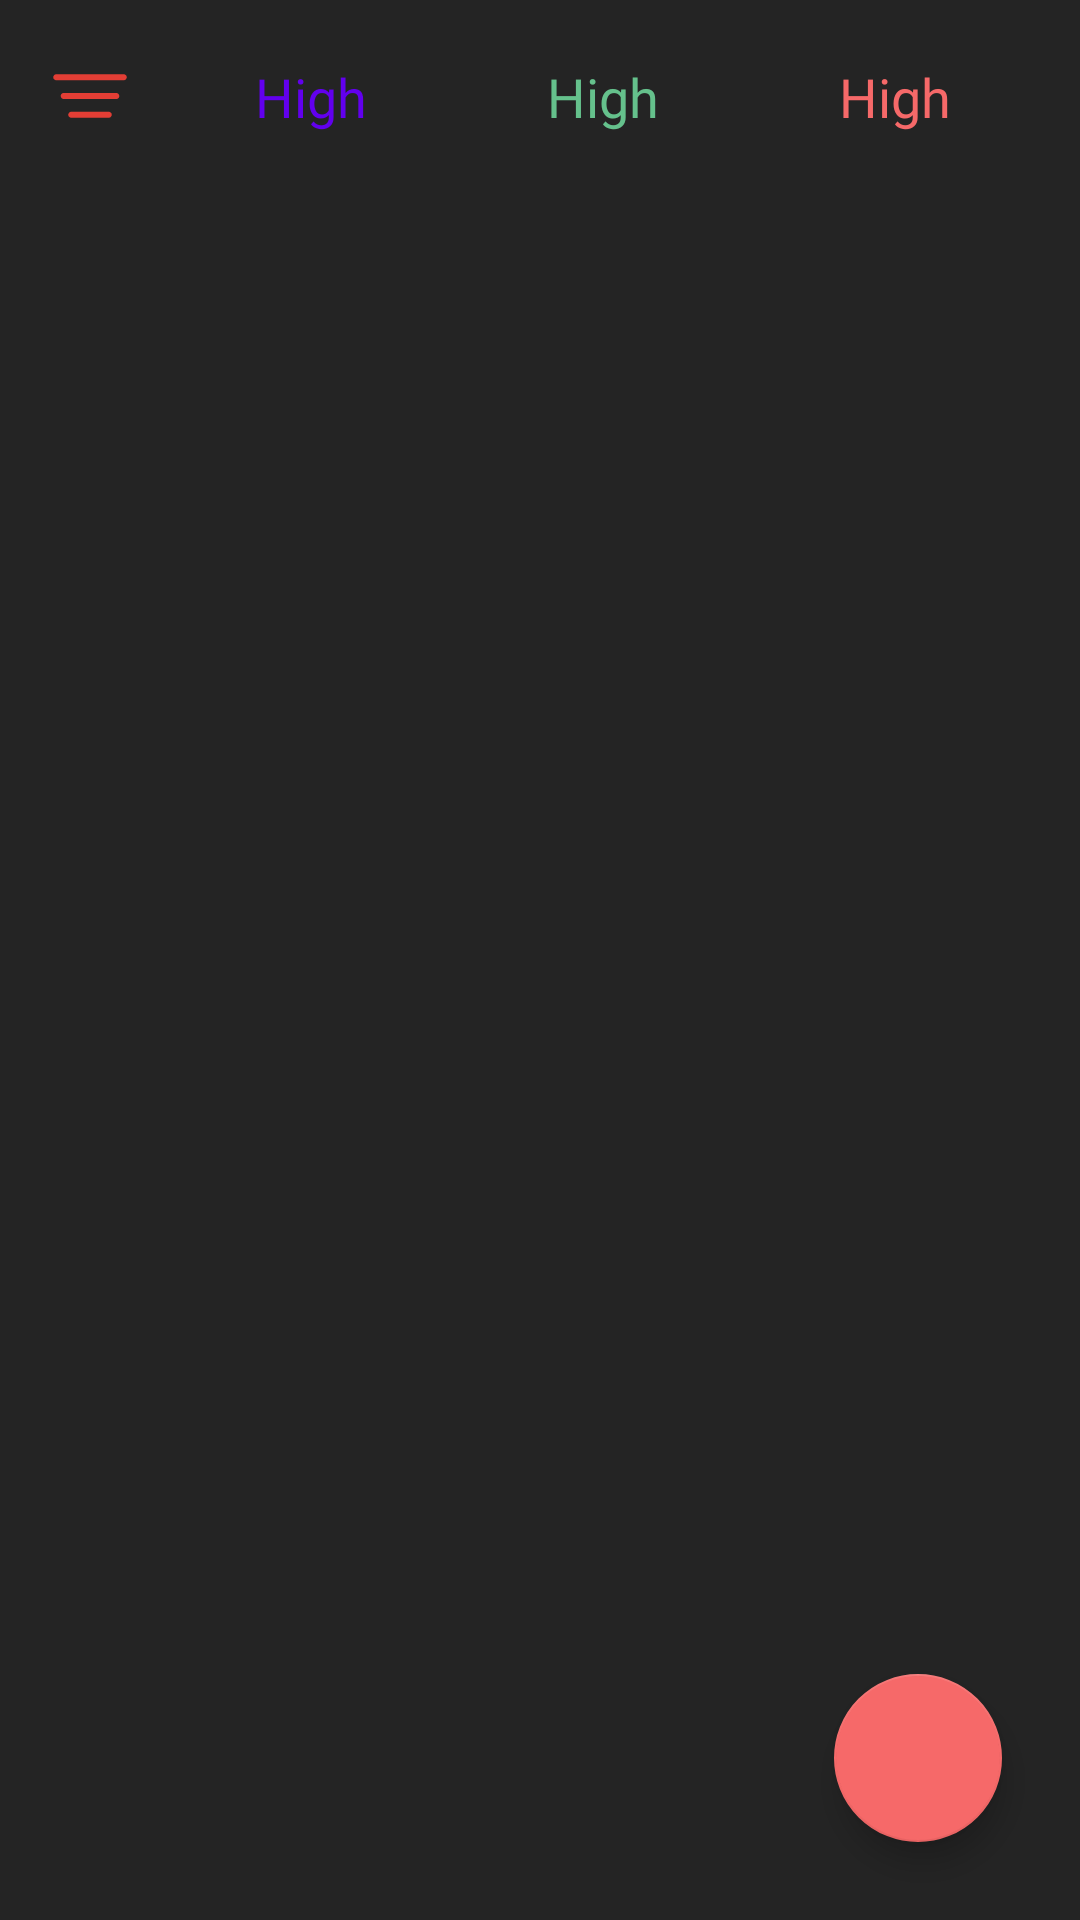

Point at icon controls on the screen. Image size 1080 × 1920, points as (x=x, y=y).
filter: (x=90, y=96)
